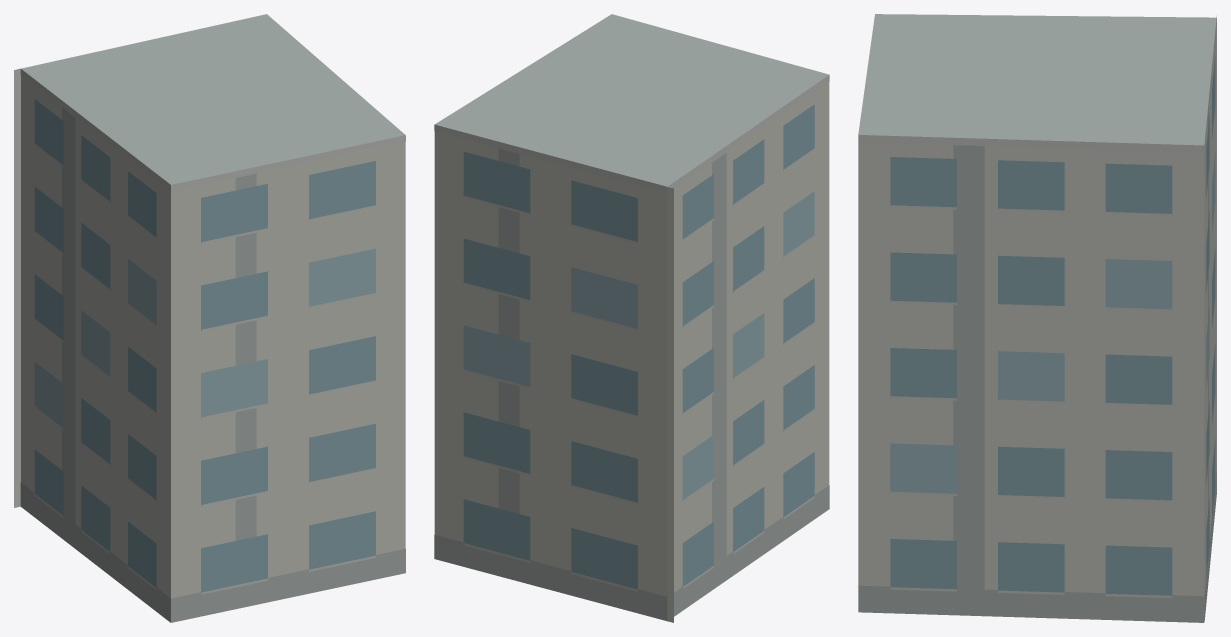
File: survey-upis-32495594.glb
3 views of the same model, side by side, from view 1: azimuth 30°, elevation 25°; view 2: azimuth 150°, elevation 25°; view 3: azimuth 270°, elevation 25° (orthographic). The views are drawn at different scales.
Parts seen in each view (by area): view 1: survey-upis-32495594.tmp; view 2: survey-upis-32495594.tmp; view 3: survey-upis-32495594.tmp.
Boxes of the visible parts, left/top/right/bottom form: survey-upis-32495594.tmp: left=14, top=14, right=405, bottom=622; survey-upis-32495594.tmp: left=434, top=14, right=829, bottom=622; survey-upis-32495594.tmp: left=858, top=14, right=1216, bottom=622.
Bounding box in the file's own units: 9.34 × 15.8 × 10.76.
